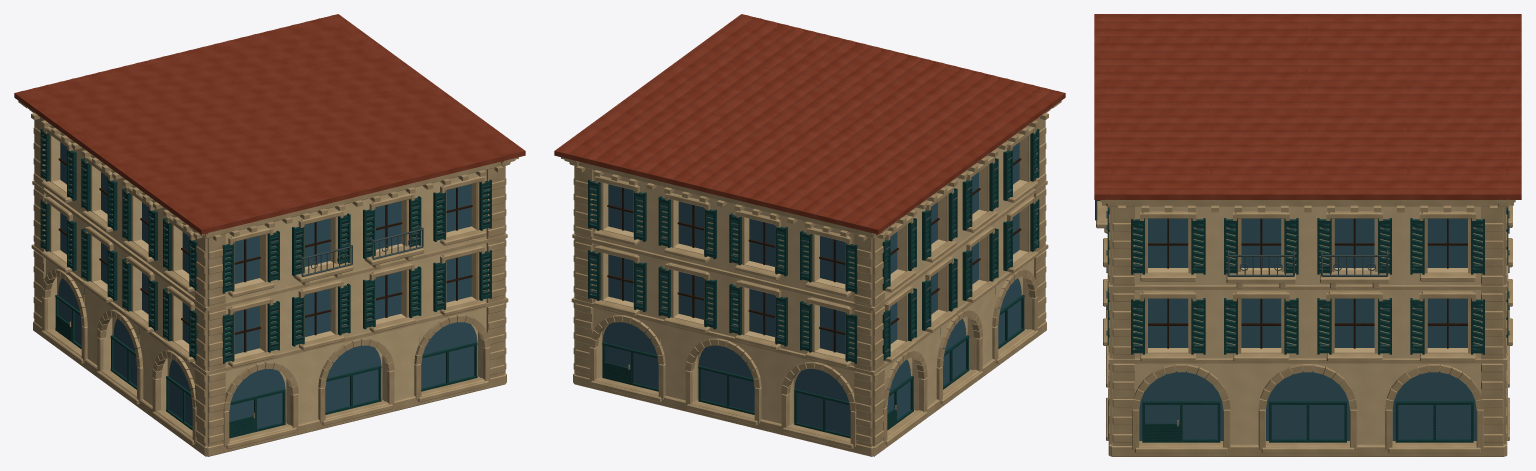
Rendered from casa.glb.
The picture shows the model from 3 angles, left to right: view 1: azimuth 30°, elevation 25°; view 2: azimuth 150°, elevation 25°; view 3: azimuth 270°, elevation 25°; orthographic projection. The views are drawn at different scales.
Visible parts, largest first — view 1: Barrel terracotta, Honey limestone, Lime plaster, Aged teal timber, Deep blue glazing, Graphite iron, Oiled walnut; view 2: Barrel terracotta, Honey limestone, Lime plaster, Aged teal timber, Deep blue glazing, Oiled walnut, Graphite iron; view 3: Barrel terracotta, Honey limestone, Deep blue glazing, Lime plaster, Aged teal timber, Graphite iron, Oiled walnut.
Boxes of the visible parts, x1,y1,x2,y2 form: Barrel terracotta: [14, 14, 525, 234]; Honey limestone: [18, 101, 518, 456]; Lime plaster: [46, 126, 486, 445]; Aged teal timber: [40, 129, 491, 438]; Deep blue glazing: [58, 142, 477, 428]; Graphite iron: [41, 137, 490, 356]; Oiled walnut: [58, 158, 472, 352]; Barrel terracotta: [554, 14, 1065, 234]; Honey limestone: [561, 101, 1061, 456]; Lime plaster: [593, 126, 1033, 445]; Aged teal timber: [588, 129, 1039, 438]; Deep blue glazing: [602, 142, 1021, 435]; Oiled walnut: [607, 158, 1021, 352]; Graphite iron: [589, 137, 1038, 356]; Barrel terracotta: [1094, 14, 1521, 199]; Honey limestone: [1096, 199, 1515, 456]; Deep blue glazing: [1139, 218, 1476, 440]; Lime plaster: [1112, 206, 1503, 444]; Aged teal timber: [1107, 207, 1508, 442]; Graphite iron: [1095, 200, 1509, 346]; Oiled walnut: [1148, 218, 1467, 348].
Bounding box in the file's own units: 13 × 9.04 × 13.
Materials: 7 (5 with a texture image).
